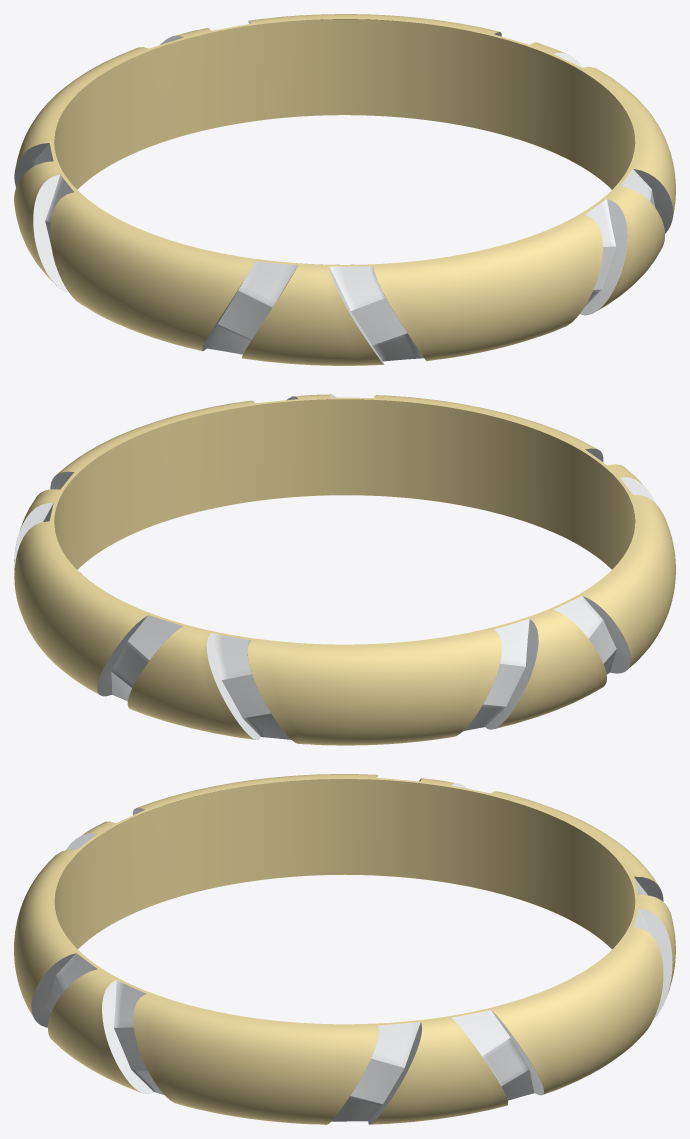
3 views of the same model, one above another, from view 1: azimuth 30°, elevation 25°; view 2: azimuth 150°, elevation 25°; view 3: azimuth 270°, elevation 25° (orthographic).
Visible parts, largest first — view 1: Base_Mesh, Engraving_Mesh, Finishing_Mesh; view 2: Base_Mesh, Engraving_Mesh, Finishing_Mesh; view 3: Base_Mesh, Engraving_Mesh, Finishing_Mesh.
Part boxes in pixels (x1,y1,x2,y2): Base_Mesh: (14,14,675,365); Engraving_Mesh: (54,19,635,264); Finishing_Mesh: (14,21,673,364); Base_Mesh: (14,394,675,745); Engraving_Mesh: (54,399,634,573); Finishing_Mesh: (14,394,655,739); Base_Mesh: (14,774,675,1124); Engraving_Mesh: (54,779,635,985); Finishing_Mesh: (31,778,672,1124).
Size of the model in its own units: 2.81 by 0.45 by 2.81.
